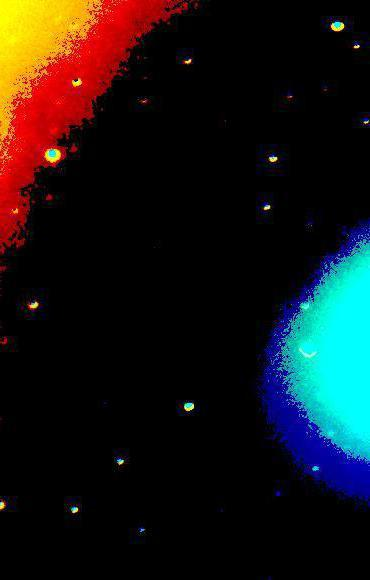star: (34, 184, 64, 214)
